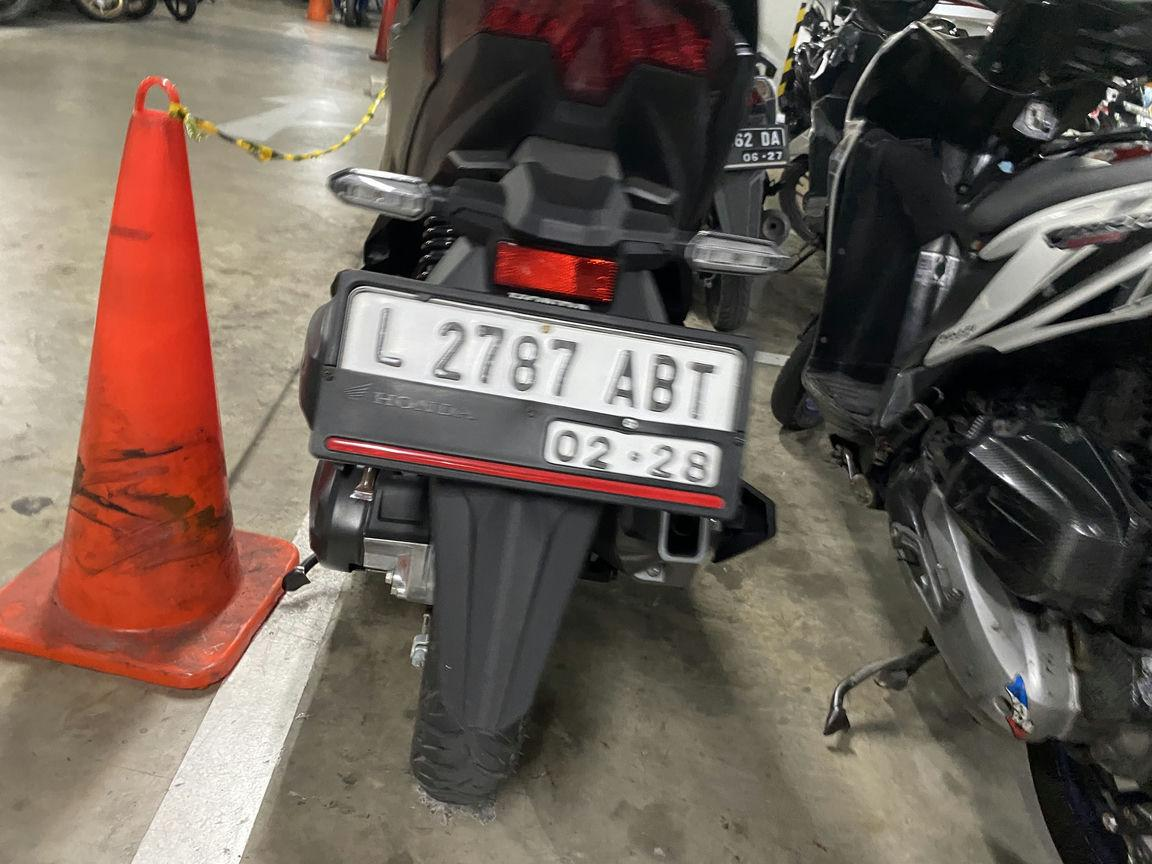plat: (335, 285, 753, 504)
